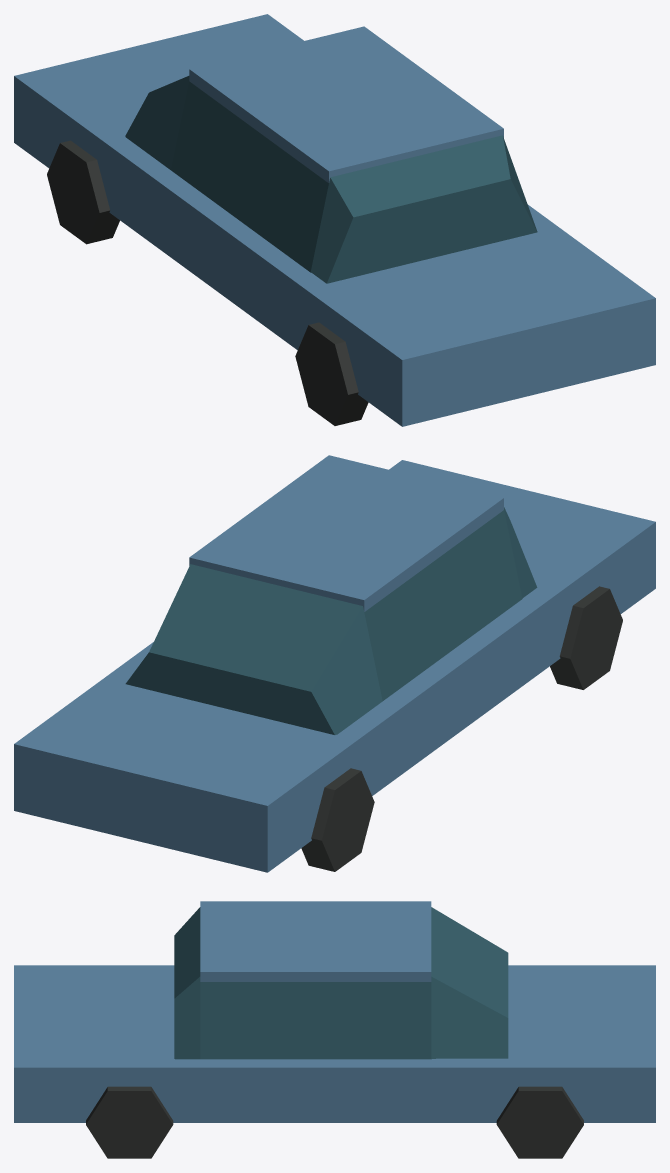
File: sedan_far.glb
3 views of the same model, one above another, from view 1: azimuth 30°, elevation 25°; view 2: azimuth 150°, elevation 25°; view 3: azimuth 270°, elevation 25° (orthographic). The views are drawn at different scales.
Parts seen in each view (by area): view 1: SedanModel traffic_blue, Supported cabin glazing, SedanModel traffic_rubber; view 2: SedanModel traffic_blue, Supported cabin glazing, SedanModel traffic_rubber; view 3: SedanModel traffic_blue, Supported cabin glazing, SedanModel traffic_rubber.
Part boxes in pixels (<box>): SedanModel traffic_blue: <box>14,14,655,426</box>; Supported cabin glazing: <box>125,76,537,283</box>; SedanModel traffic_rubber: <box>47,140,368,425</box>; SedanModel traffic_blue: <box>14,455,655,872</box>; Supported cabin glazing: <box>125,507,537,734</box>; SedanModel traffic_rubber: <box>301,586,622,871</box>; SedanModel traffic_blue: <box>14,901,655,1122</box>; Supported cabin glazing: <box>174,907,508,1059</box>; SedanModel traffic_rubber: <box>86,1086,583,1158</box>.
Size of the model in its own units: 2.11 by 1.48 by 5.16.
